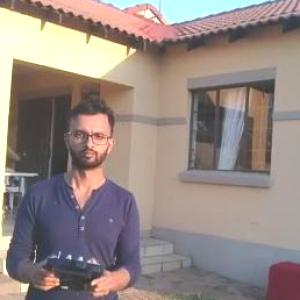follow: (0, 91, 144, 299)
